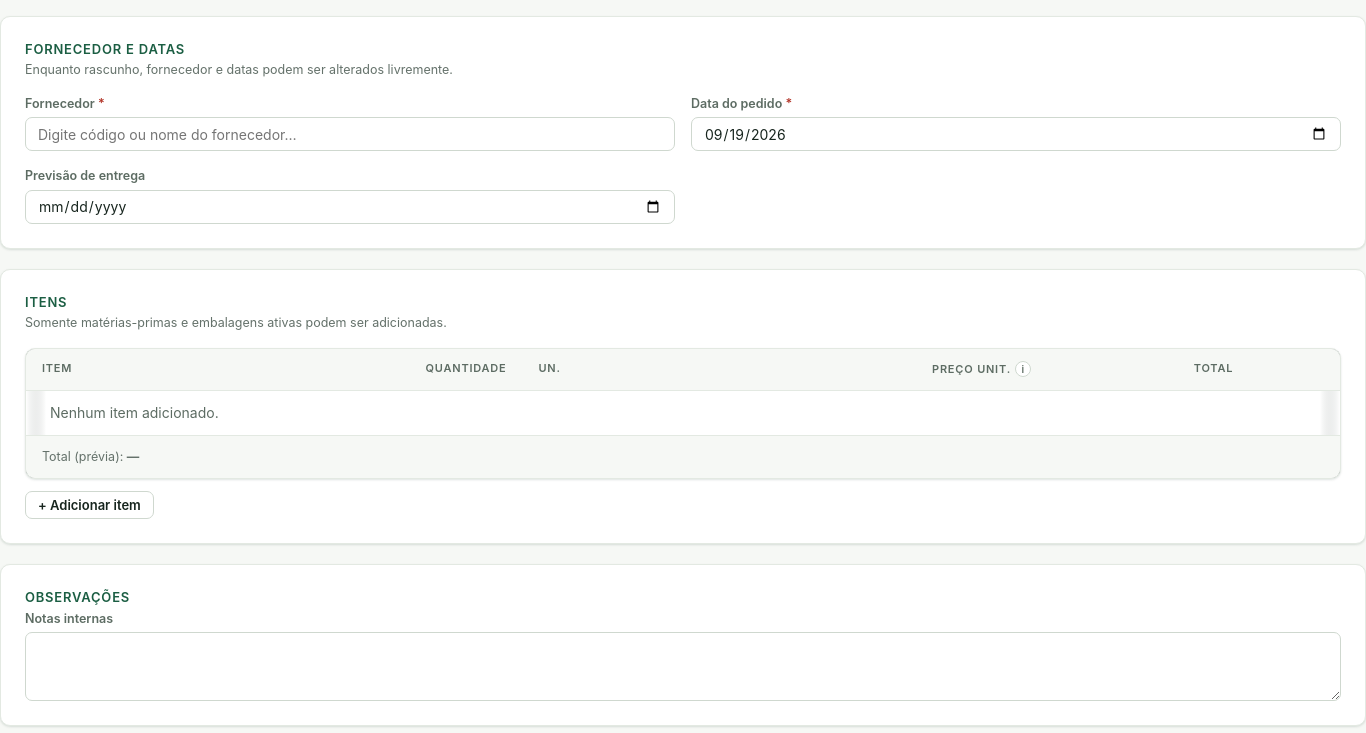
Test: OC nova — guarda de alterações não salvas › alterar o cabeçalho pergunta antes de sair
(page scrolled)
Type "Compra urgente" into the text box labelled "Notas internas".
click(683, 666); type("Compra urgente")  # box x1=25 y1=632 x2=1341 y2=701
(page scrolled)
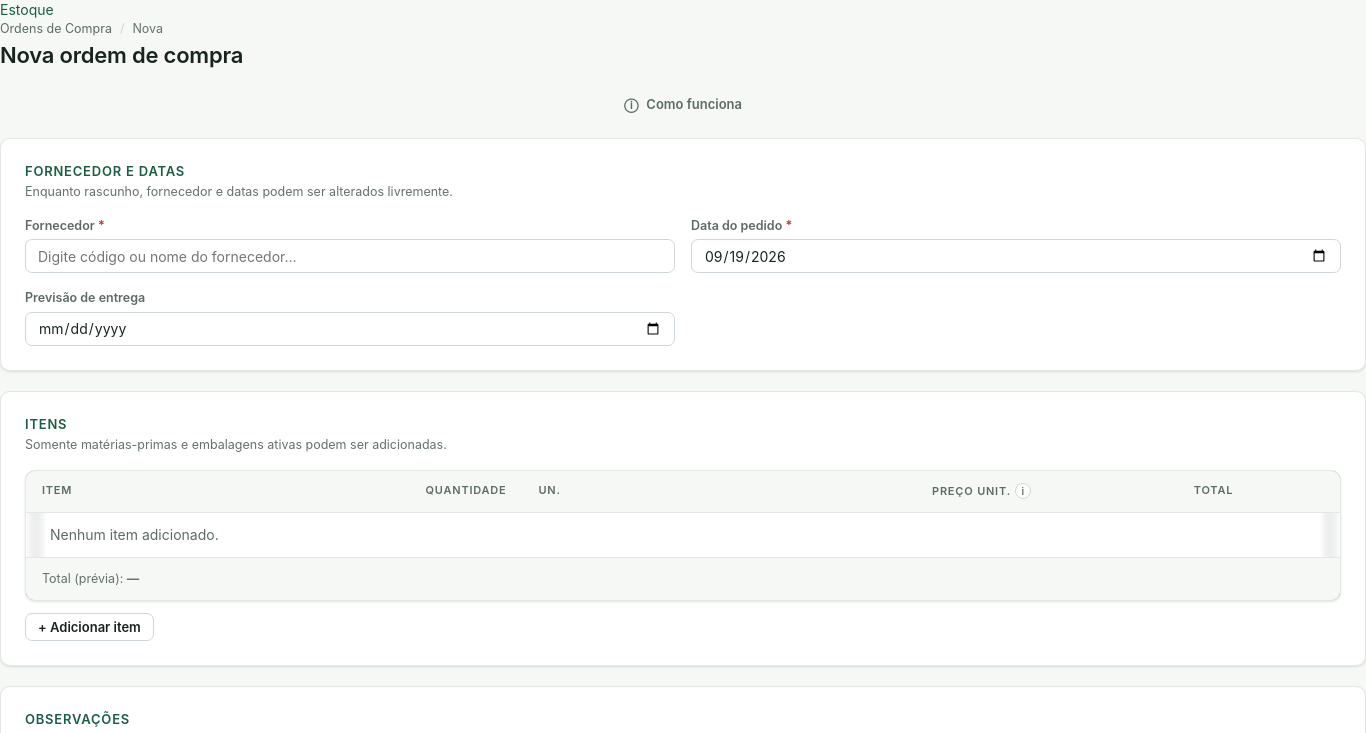
Click the link "Estoque".
click(27, 10)  # box x1=0 y1=1 x2=54 y2=18
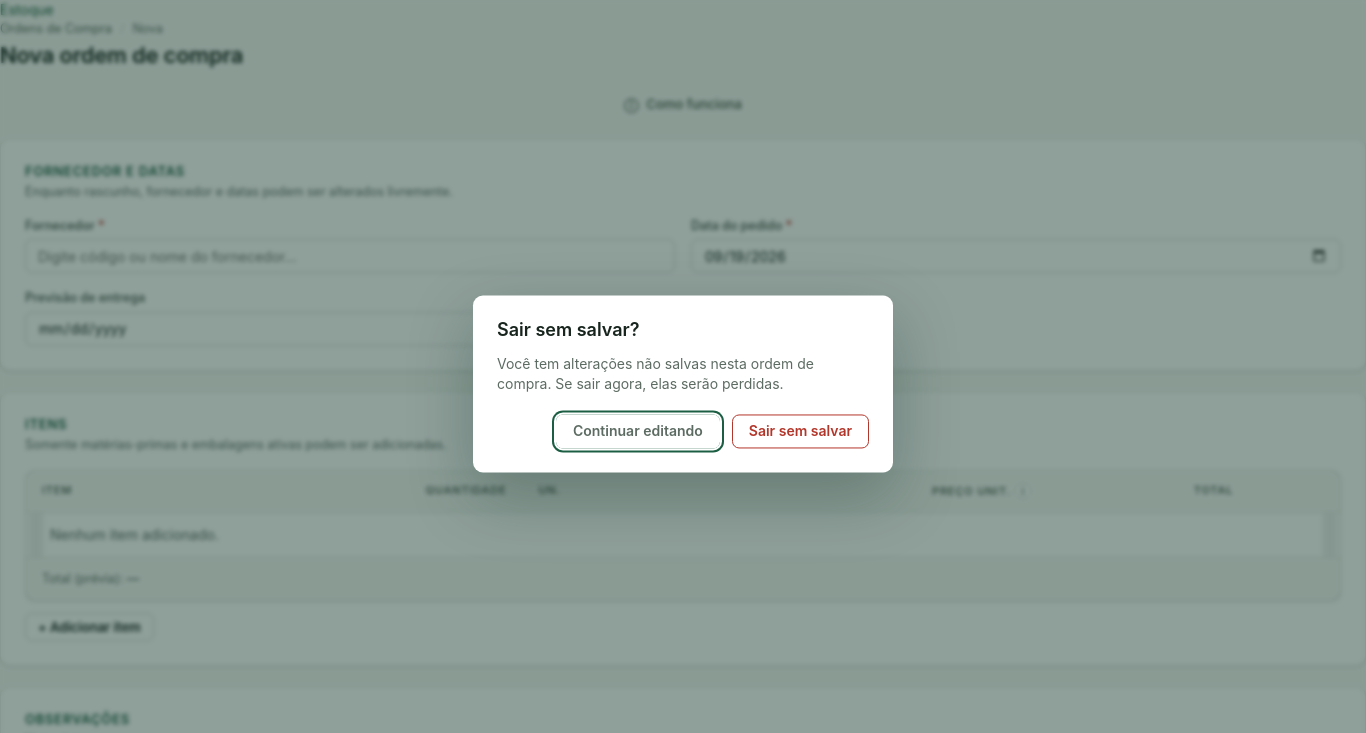
expect the heading "Sair sem salvar?" is shown: met, box x1=497 y1=320 x2=640 y2=340
expect the text "alterações não salvas nesta ordem de compra" is shown: met, box x1=497 y1=354 x2=869 y2=395
